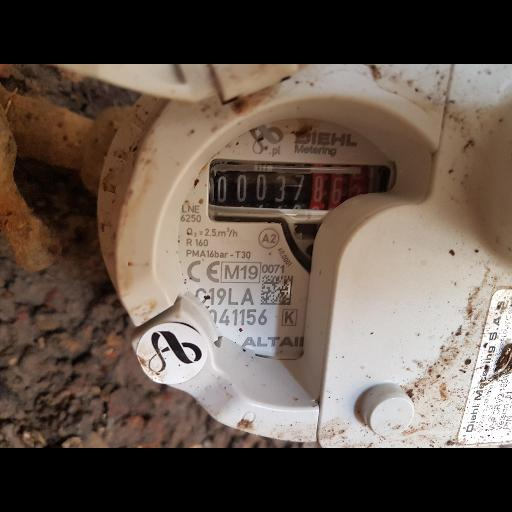0: (231, 171, 254, 208), (251, 171, 273, 208), (215, 170, 233, 206)
3: (271, 171, 291, 209), (349, 174, 365, 199)
6: (328, 173, 350, 212)
7: (291, 173, 312, 210)
8: (310, 173, 331, 211)
border_water_meter_number: (207, 158, 391, 219)
